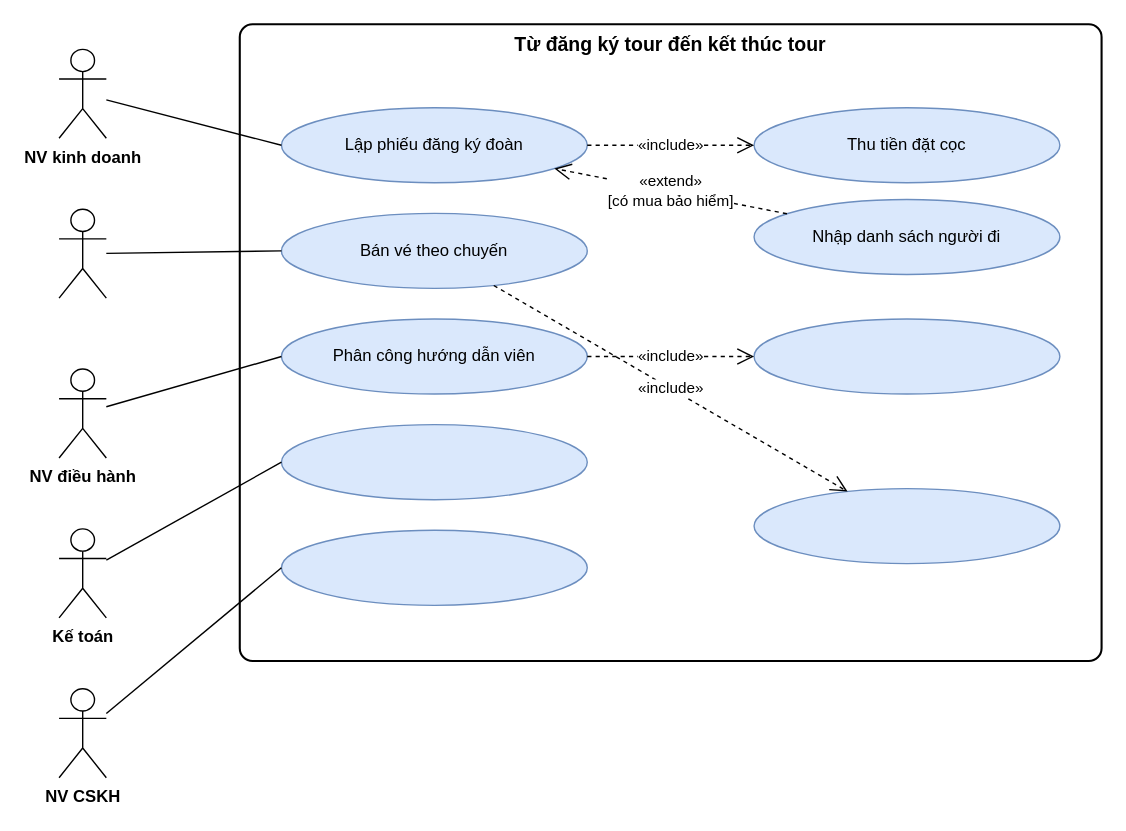
The diagram is 1126 pixels wide and 831 high, and some of its shapes have lost their labels. Each missing label, with the centre of its shape:
"Gửi và ghi nhận phiếu khảo sát" belongs at pixel 433 567.
"Kiểm tra chỗ còn trống" belongs at pixel 906 525.
"Kiểm tra trùng lịch HDV" belongs at pixel 906 356.
"NV bán vé" belongs at pixel 82 253.
"Thanh toán sau tour (đoàn)" belongs at pixel 433 461.
